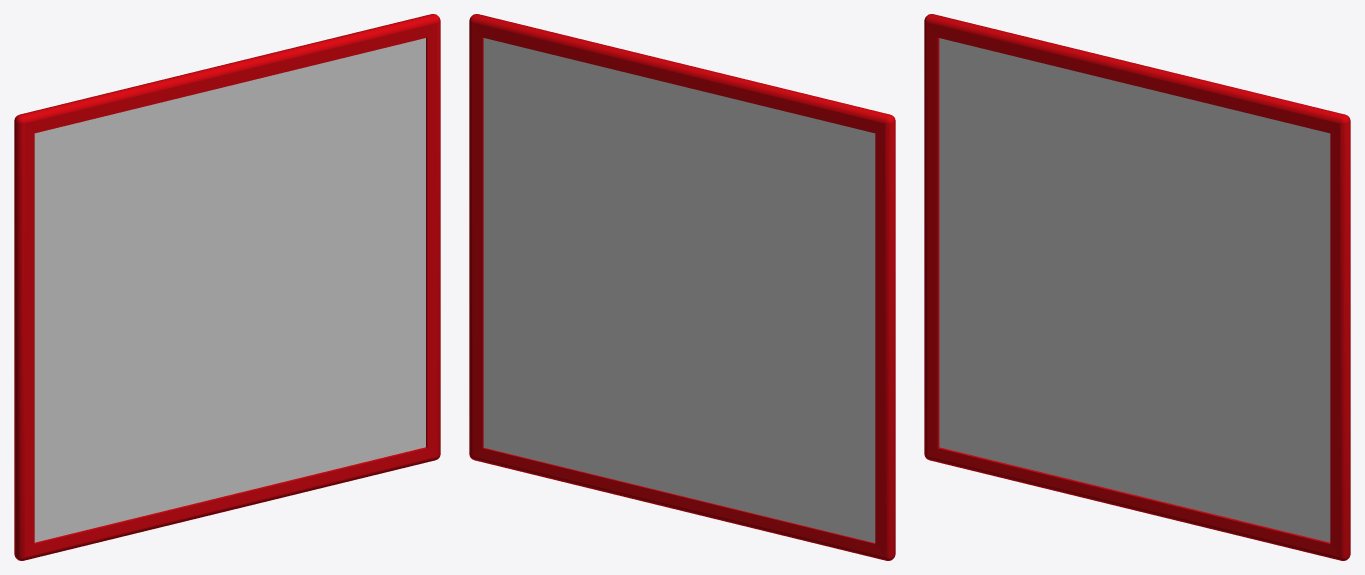
File: Wall1_2_frame.fbx
The picture shows the model from 3 angles, left to right: view 1: azimuth 30°, elevation 25°; view 2: azimuth 150°, elevation 25°; view 3: azimuth 330°, elevation 25°; orthographic projection.
Parts seen in each view (by area): view 1: Wall1_2, Wall1_2_frame; view 2: Wall1_2, Wall1_2_frame; view 3: Wall1_2, Wall1_2_frame.
Boxes of the visible parts, x1,y1,x2,y2 form: Wall1_2: (34,38,425,542); Wall1_2_frame: (14,14,440,560); Wall1_2: (483,38,875,542); Wall1_2_frame: (469,14,895,560); Wall1_2: (939,38,1330,542); Wall1_2_frame: (924,14,1350,560).
Size of the model in its own units: 2.69 by 2.7 by 0.0785.
